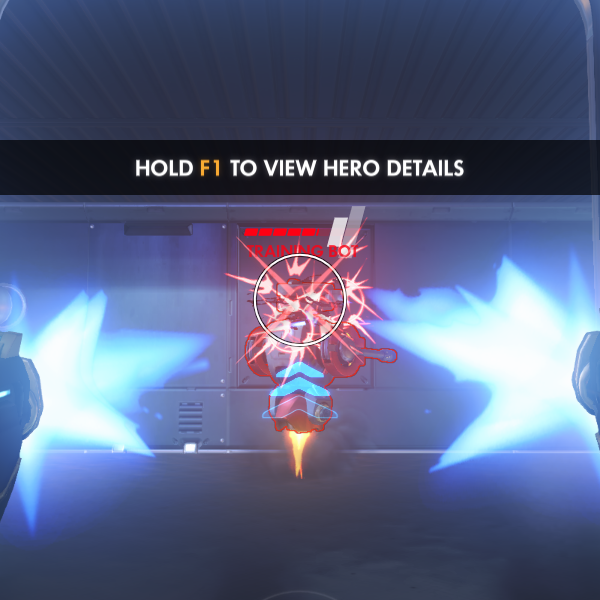hpbar: (243, 227, 360, 237)
